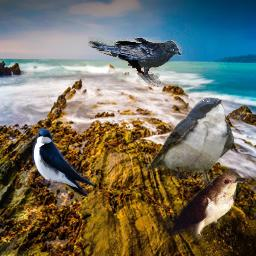Crow: (88, 37, 182, 87)
Cuckoo: (158, 173, 249, 239)
Swallow: (145, 97, 235, 187), (32, 128, 95, 197)
